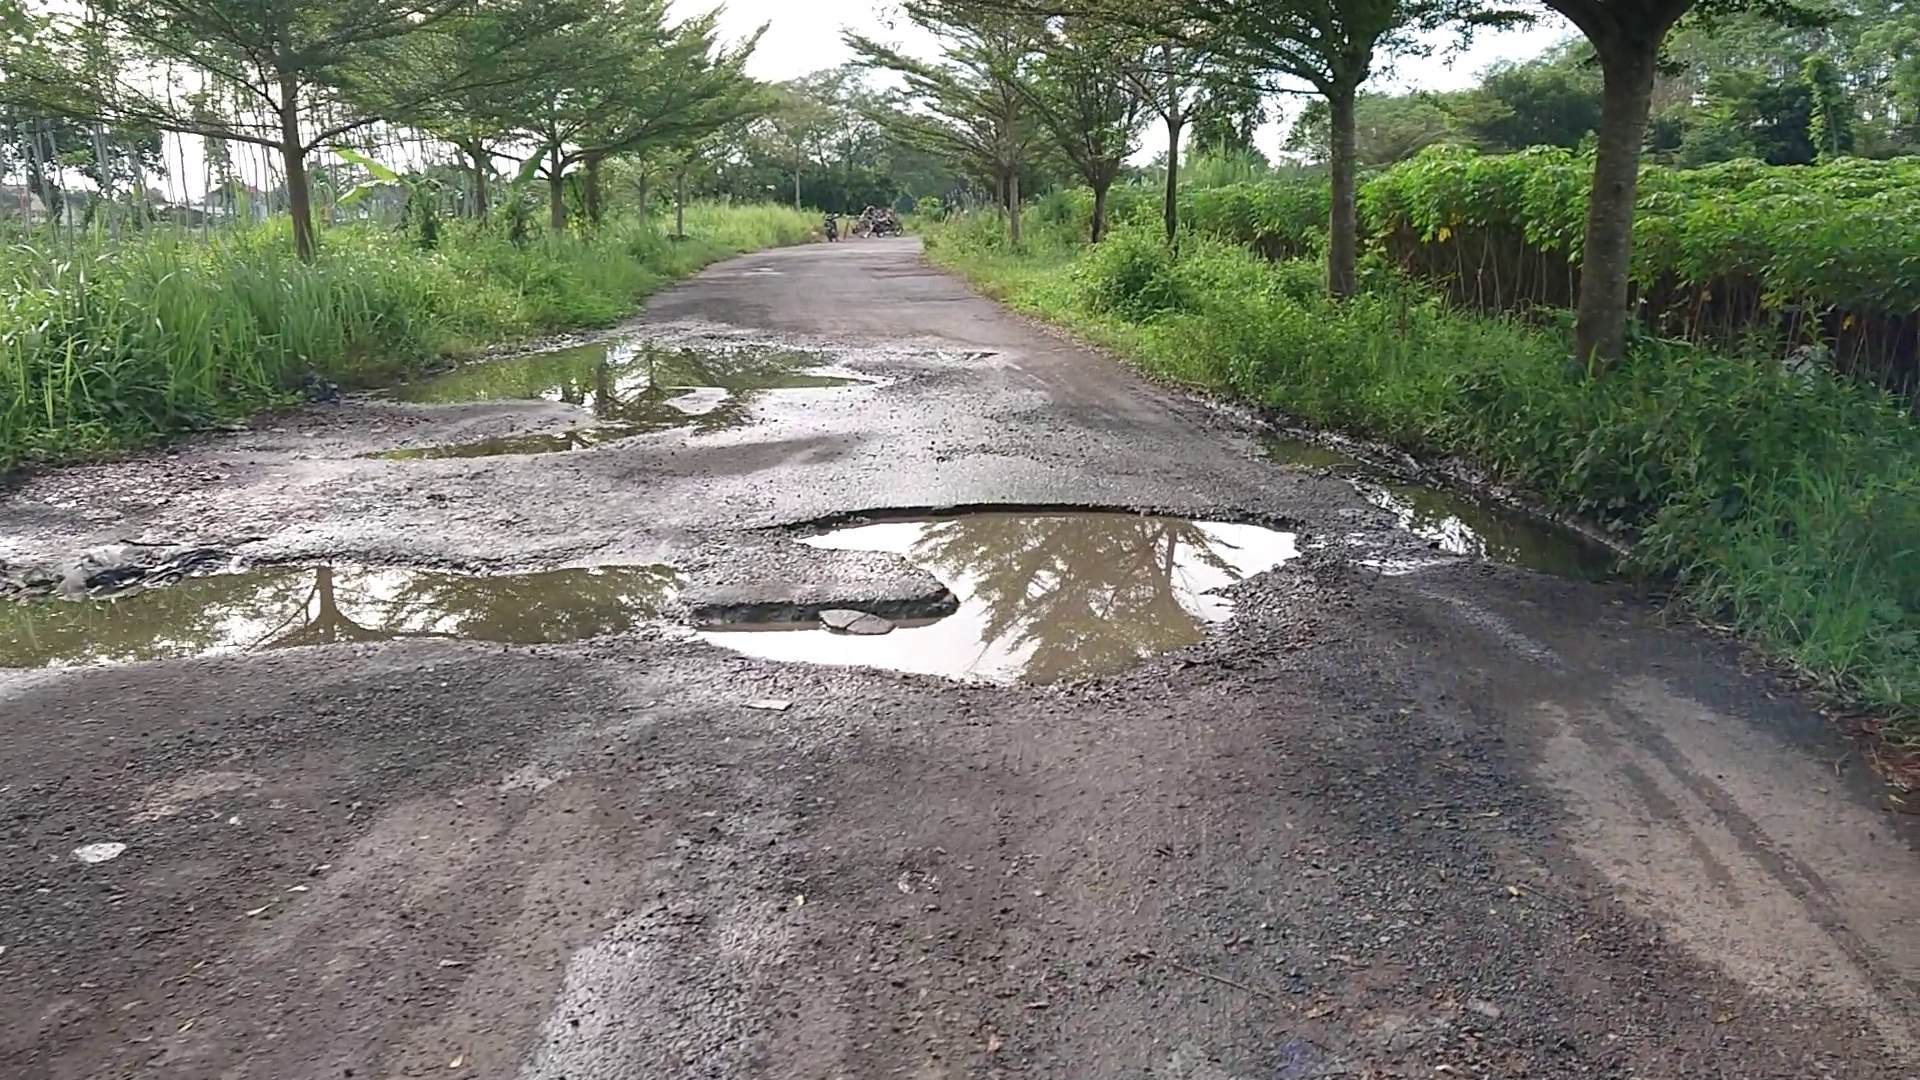Berlubang: (705, 514, 1385, 663), (61, 562, 680, 650), (396, 338, 796, 429)
